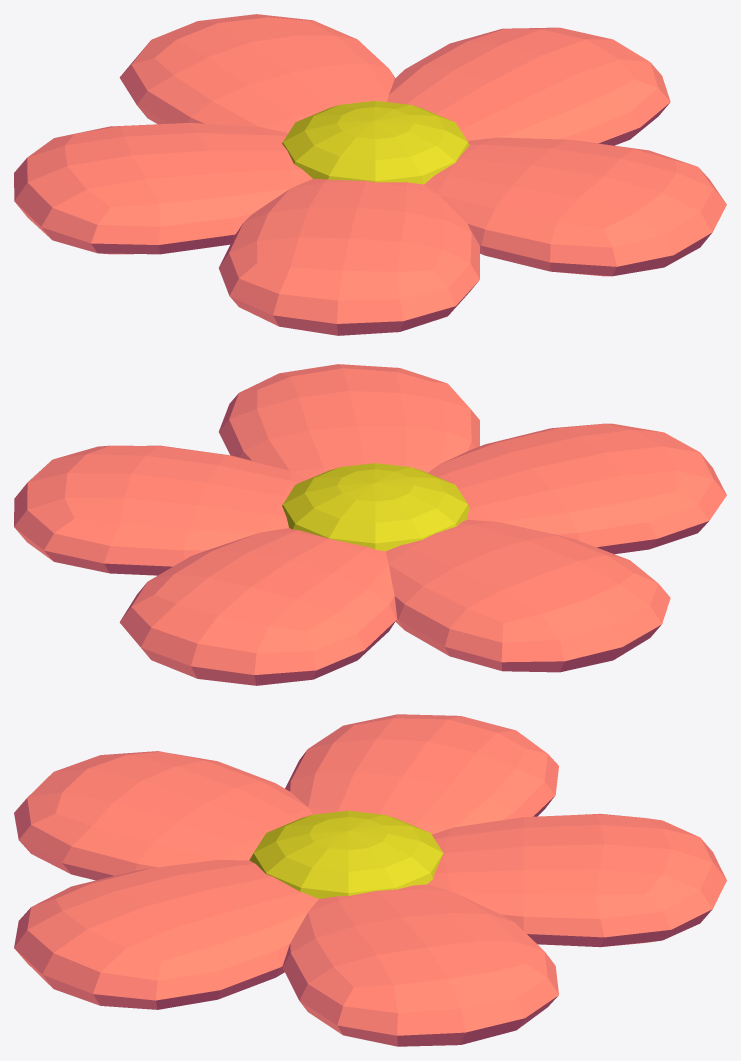
File: flower.fbx
The picture shows the model from 3 angles, top to bottom: view 1: azimuth 30°, elevation 25°; view 2: azimuth 150°, elevation 25°; view 3: azimuth 270°, elevation 25°; orthographic projection. The views are drawn at different scales.
Parts seen in each view (by area): view 1: Cube; view 2: Cube; view 3: Cube.
Part boxes in pixels (<box>): Cube: <box>14,14,726,335</box>; Cube: <box>14,364,726,685</box>; Cube: <box>14,714,726,1046</box>.
Size of the model in its own units: 37.81 by 4.86 by 36.68.
